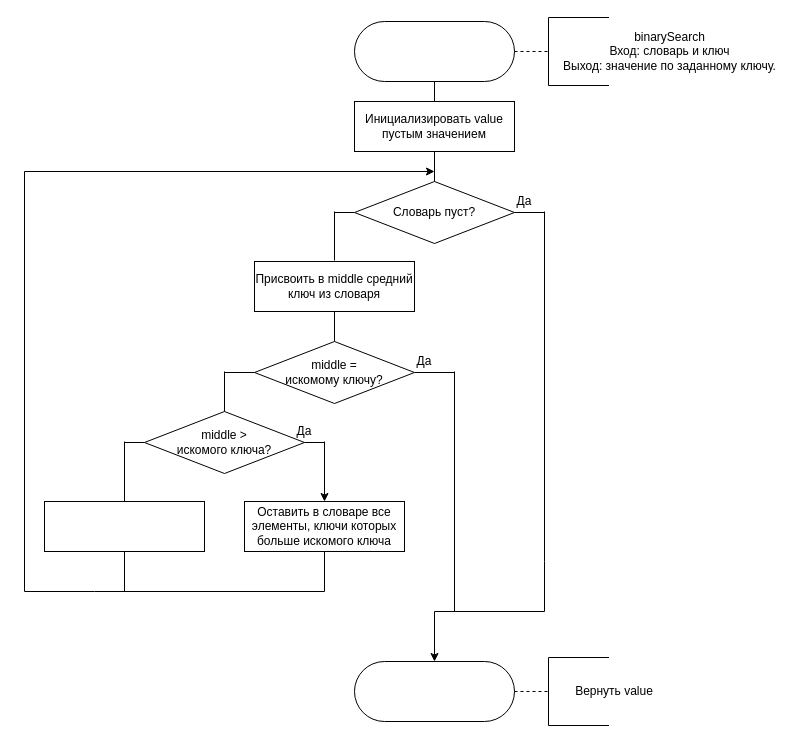
This 812x743 diagram has some shape labels left out. The shapes that lost their labels are listed below. From the top down, each one's centre as x and y in pixels, then its label:
the point at 434,51: Начало
the point at 124,526: Оставить в словаре все элементы, ключи которых меньше искомого ключа
the point at 434,691: Конец
